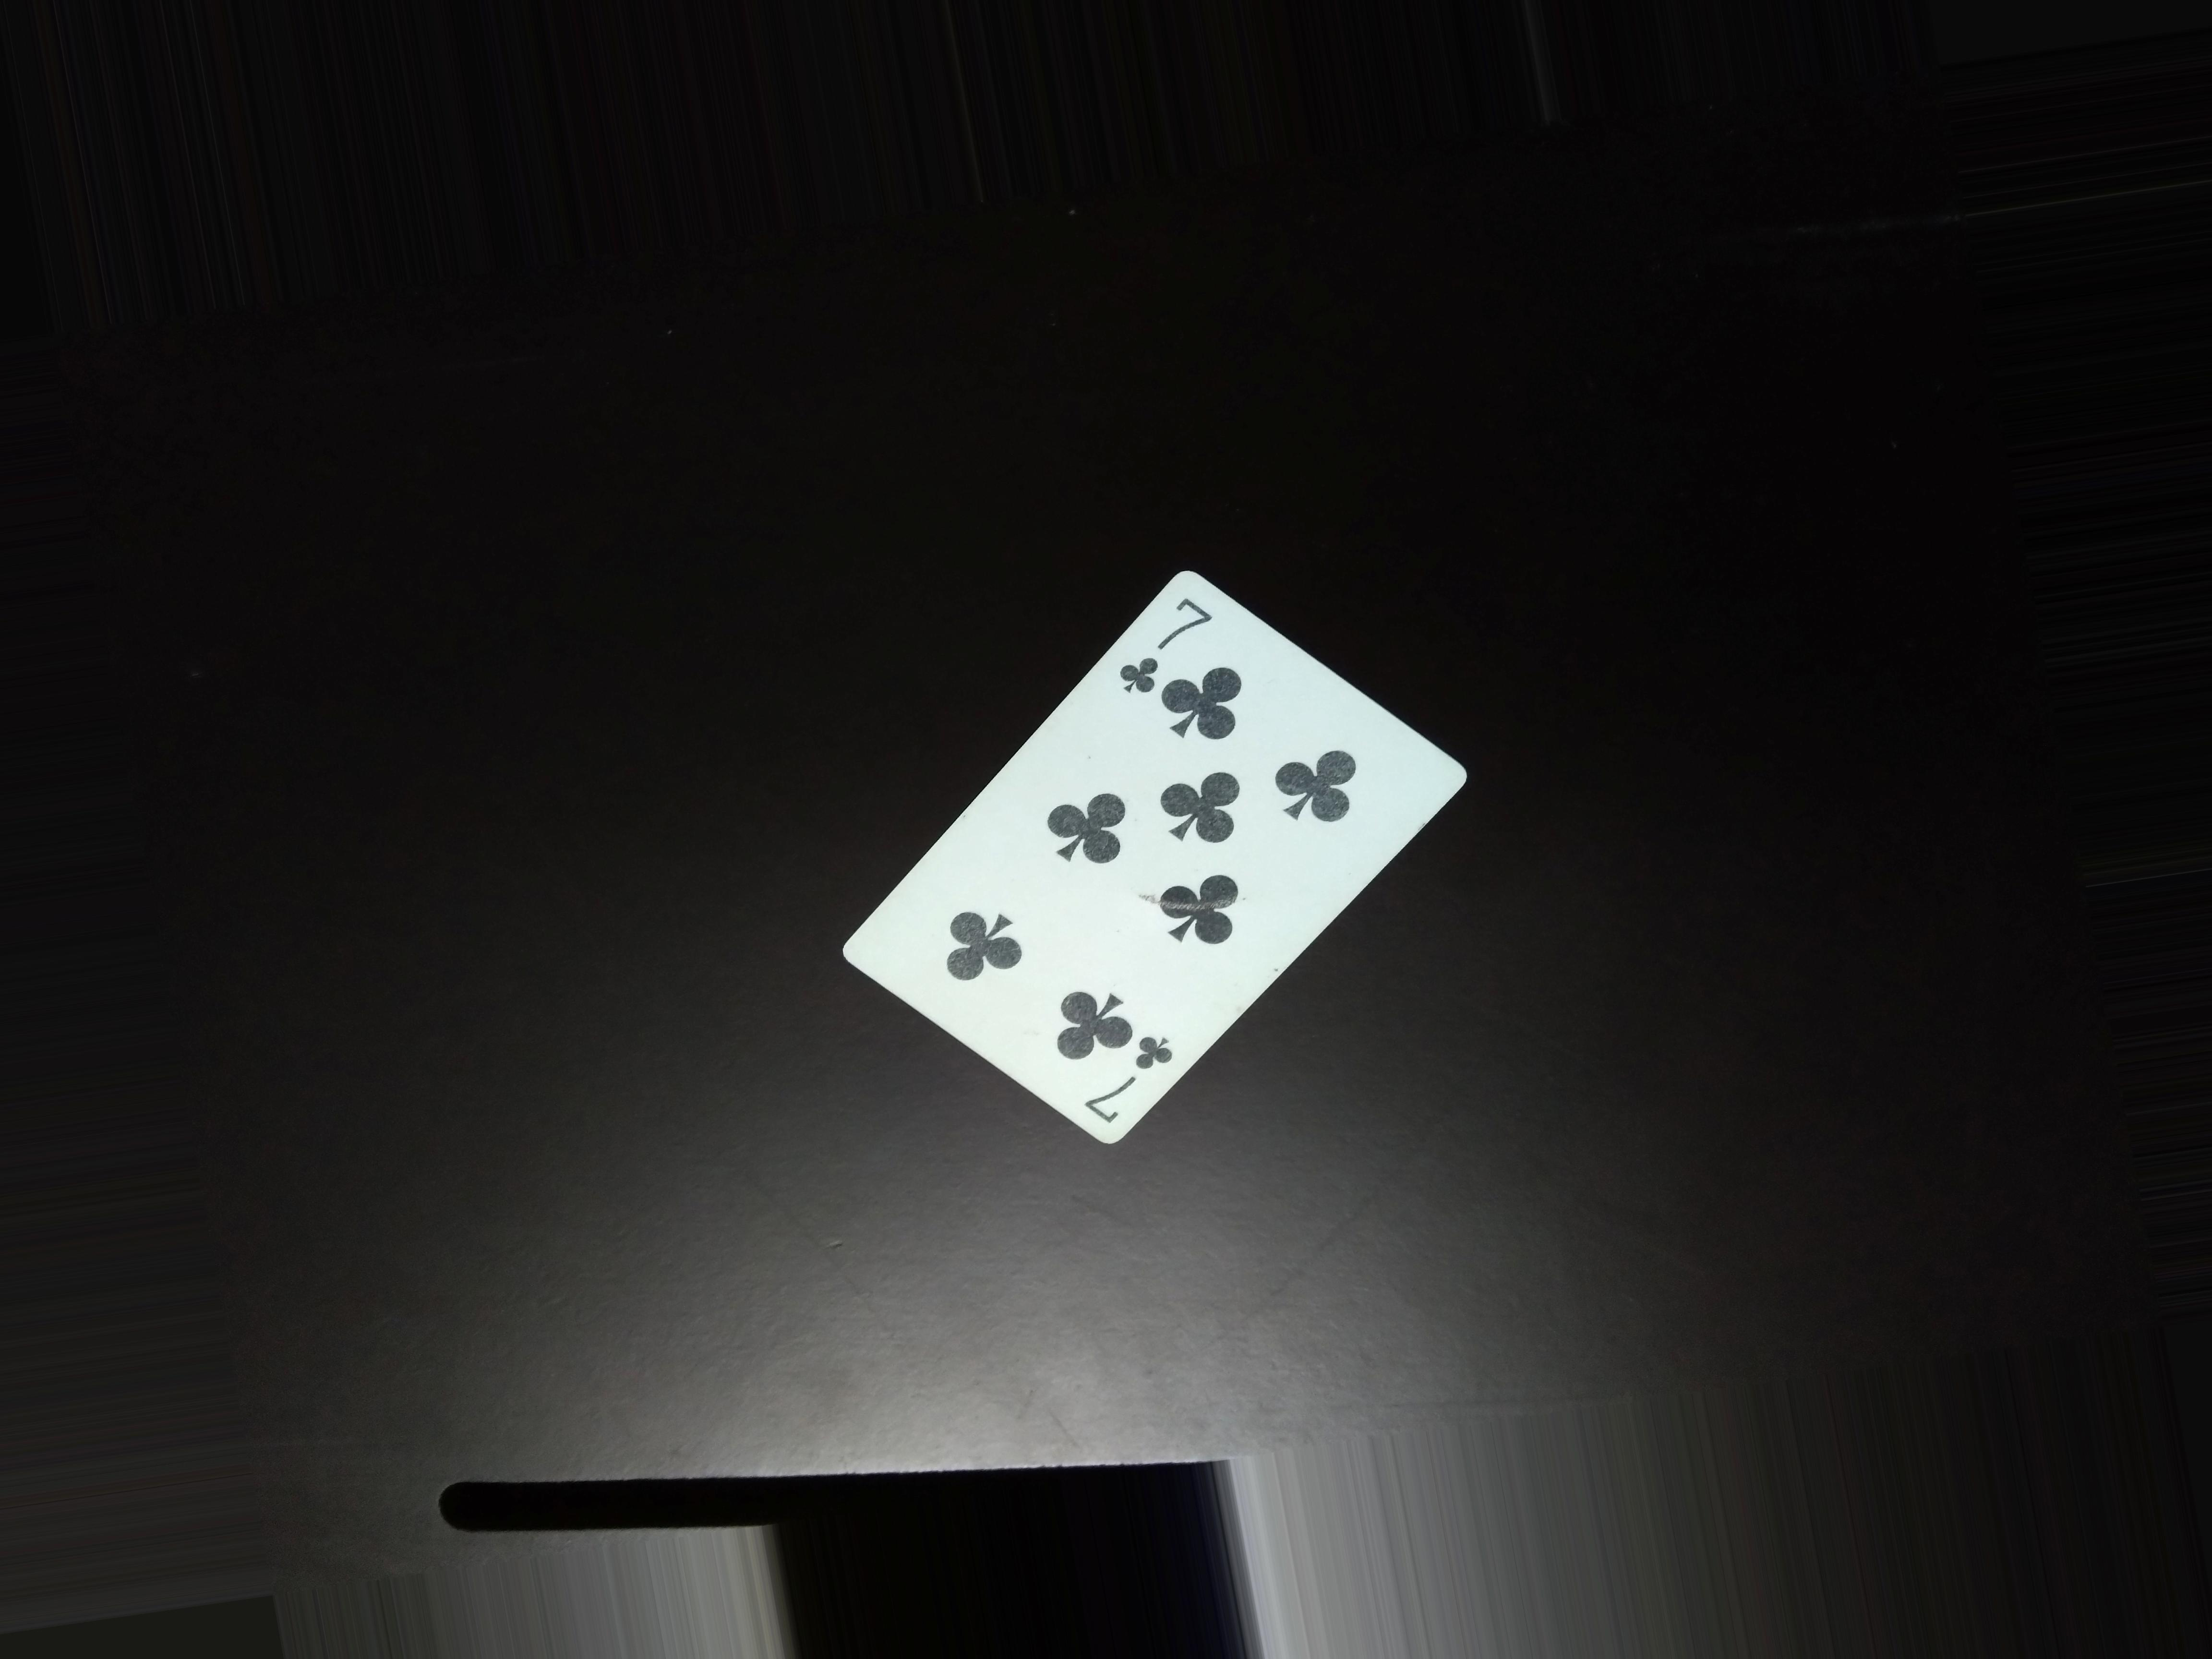7C: (1118, 591, 1212, 709)
